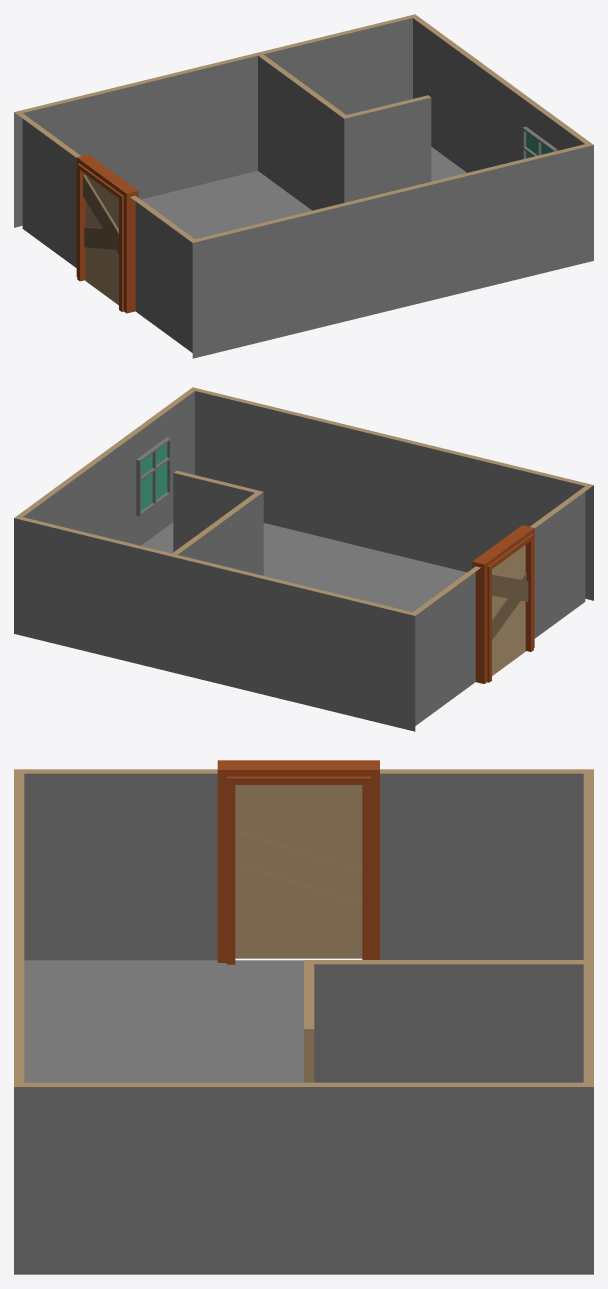
File: room.fbx
3 renders of one model, top to bottom at view 1: azimuth 30°, elevation 25°; view 2: azimuth 150°, elevation 25°; view 3: azimuth 270°, elevation 25°, orthographic. The views are drawn at different scales.
Visible parts, largest first — view 1: Box; view 2: Box; view 3: Box.
Boxes of the visible parts, <box> form: Box: <box>14,14,593,358</box>; Box: <box>14,387,593,731</box>; Box: <box>14,760,593,1274</box>.
Size of the model in its own units: 1103 by 313 by 840.
